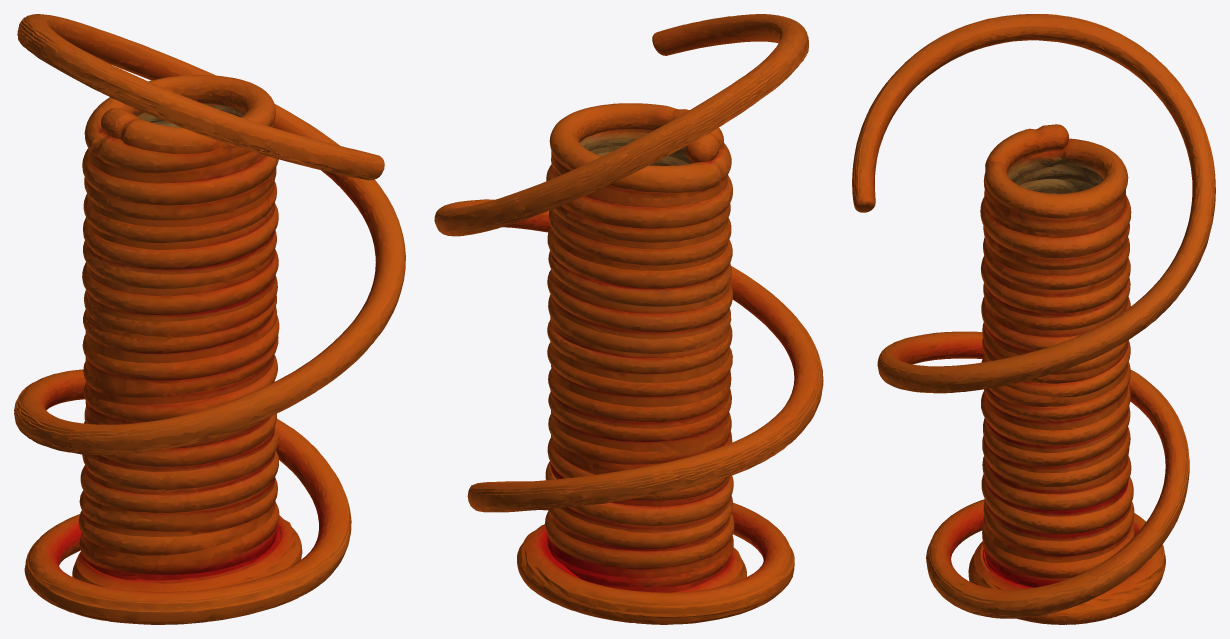
Rendered from 03_4_gj_vase2.glb.
The picture shows the model from 3 angles, left to right: view 1: azimuth 30°, elevation 25°; view 2: azimuth 150°, elevation 25°; view 3: azimuth 270°, elevation 25°; orthographic projection. The views are drawn at different scales.
Parts seen in each view (by area): view 1: tripo_node_7c9dad5b-f0e5-42fd-8ffc-3483bcc97115.002; view 2: tripo_node_7c9dad5b-f0e5-42fd-8ffc-3483bcc97115.002; view 3: tripo_node_7c9dad5b-f0e5-42fd-8ffc-3483bcc97115.002.
Boxes of the visible parts, x1,y1,x2,y2 form: tripo_node_7c9dad5b-f0e5-42fd-8ffc-3483bcc97115.002: (14, 14, 405, 624); tripo_node_7c9dad5b-f0e5-42fd-8ffc-3483bcc97115.002: (434, 14, 823, 624); tripo_node_7c9dad5b-f0e5-42fd-8ffc-3483bcc97115.002: (852, 14, 1215, 624).
Size of the model in its own units: 0.2 by 0.306 by 0.2.
1 material, 1 textured.
